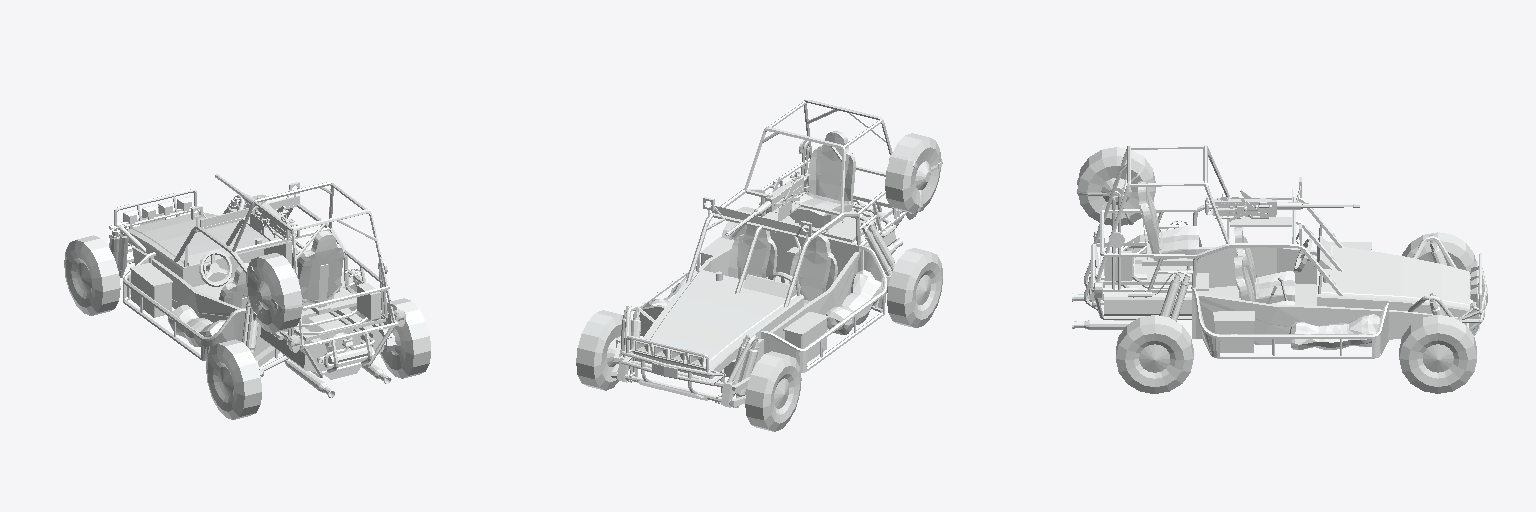
File: dpv.obj
3 views of the same model, side by side, from view 1: azimuth 30°, elevation 25°; view 2: azimuth 150°, elevation 25°; view 3: azimuth 270°, elevation 25° (orthographic).
Visible parts, largest first — view 1: Mesh_0020, Mesh_0019; view 2: Mesh_0020, Mesh_0019; view 3: Mesh_0020, Mesh_0019.
Boxes of the visible parts, box(x1,y1,x2,y2) form: Mesh_0020: box(64, 182, 430, 419); Mesh_0019: box(215, 174, 299, 240); Mesh_0020: box(576, 100, 942, 431); Mesh_0019: box(725, 171, 810, 235); Mesh_0020: box(1072, 145, 1487, 393); Mesh_0019: box(1203, 190, 1359, 221).
Bounding box in the file's own units: 2.18 × 2 × 4.07.